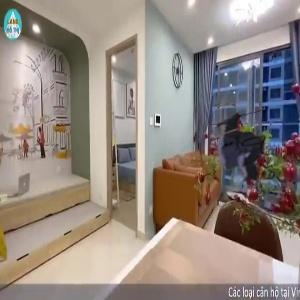drone: (187, 99, 286, 198)
